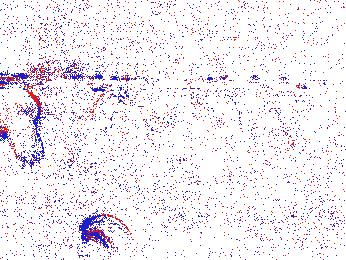flame jellyfish: (215, 205, 288, 260), (1, 84, 46, 169), (75, 214, 135, 260)
